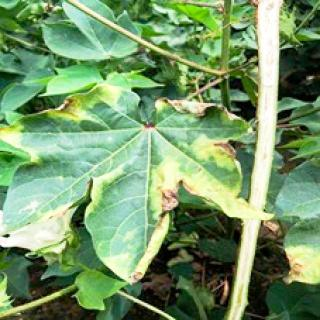wilt: (9, 82, 233, 283)
